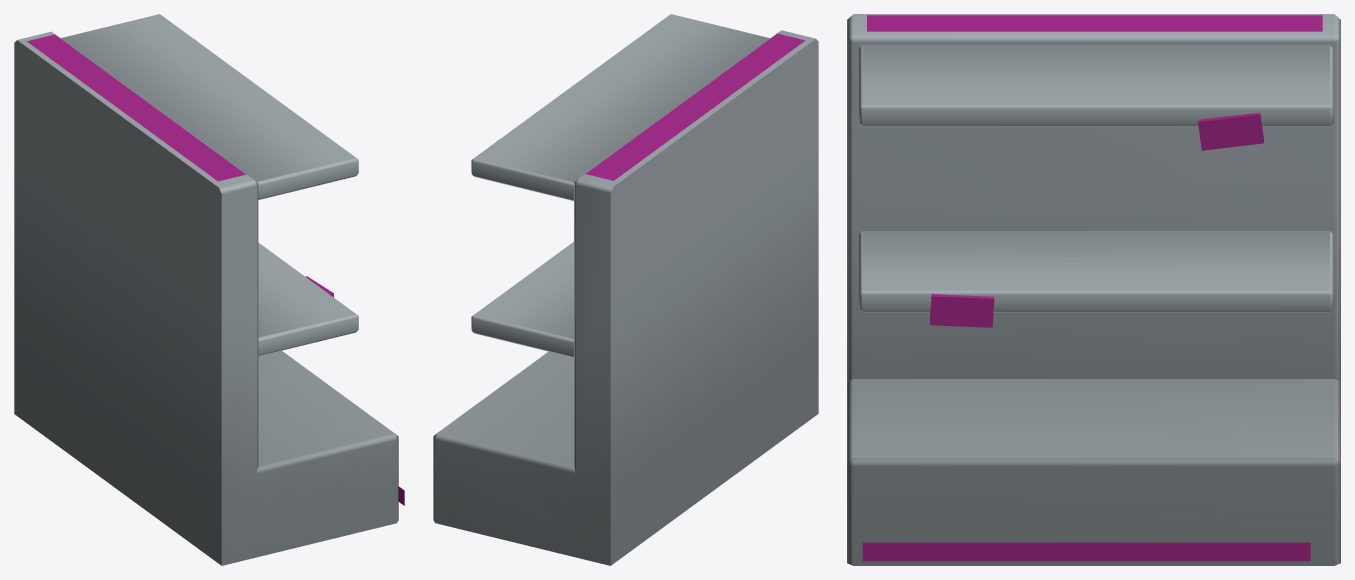
File: Stella_100_200_01.fbx
3 views of the same model, side by side, from view 1: azimuth 30°, elevation 25°; view 2: azimuth 150°, elevation 25°; view 3: azimuth 270°, elevation 25° (orthographic). The views are drawn at different scales.
Visible parts, largest first — view 1: Stella_100_200_01, marks_100_200; view 2: Stella_100_200_01, marks_100_200; view 3: Stella_100_200_01, marks_100_200.
Boxes of the visible parts, x1,y1,x2,y2 form: Stella_100_200_01: (14, 14, 398, 565); marks_100_200: (27, 34, 404, 505); Stella_100_200_01: (433, 14, 818, 565); marks_100_200: (497, 33, 805, 180); Stella_100_200_01: (847, 14, 1340, 565); marks_100_200: (862, 15, 1322, 561).
Bounding box in the file's own units: 105 × 200 × 201.
